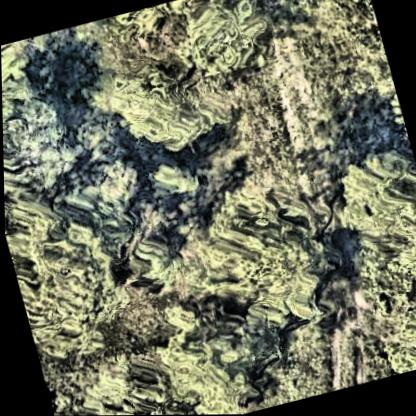tree-top: (3, 182, 136, 366), (189, 183, 340, 331), (324, 145, 416, 324), (149, 301, 264, 415), (261, 0, 392, 100), (93, 59, 203, 160), (2, 94, 95, 207), (73, 1, 191, 88), (162, 0, 278, 88), (243, 318, 340, 409), (90, 355, 170, 416), (366, 295, 416, 378)
